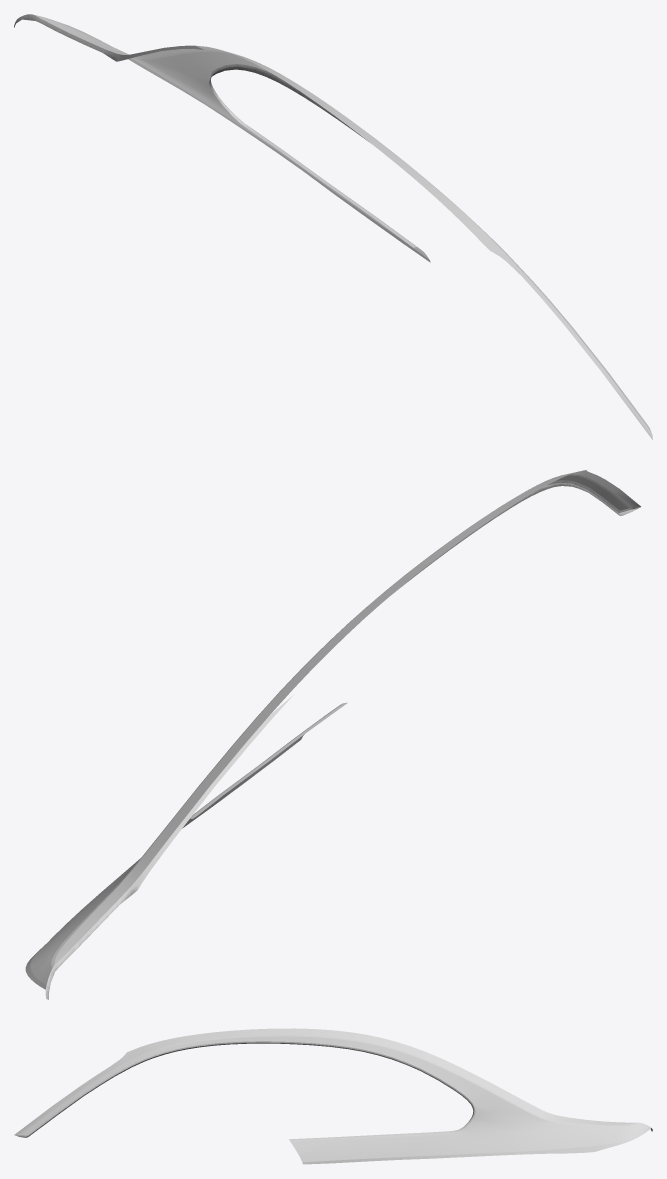
Rendered from M2driverbackfenderoutline.glb.
3 views of the same model, one above another, from view 1: azimuth 30°, elevation 25°; view 2: azimuth 150°, elevation 25°; view 3: azimuth 270°, elevation 25° (orthographic). The views are drawn at different scales.
Parts seen in each view (by area): view 1: Object_23.116, Object_23.120, Object_23.113, Object_23.070, Object_23.009, Object_23.117; view 2: Object_23.116, Object_23.120, Object_23.070, Object_23.113, Object_23.117; view 3: Object_23.120, Object_23.116, Object_23.009, Object_23.114, Object_23.117, Object_23.113.
Boxes of the visible parts, left/top/right/bottom form: Object_23.116: left=35, top=15, right=652, bottom=439; Object_23.120: left=60, top=22, right=651, bottom=431; Object_23.113: left=209, top=66, right=415, bottom=247; Object_23.070: left=14, top=14, right=203, bottom=61; Object_23.009: left=23, top=18, right=430, bottom=262; Object_23.117: left=36, top=15, right=651, bottom=432; Object_23.116: left=54, top=470, right=640, bottom=964; Object_23.120: left=30, top=475, right=628, bottom=984; Object_23.070: left=45, top=694, right=294, bottom=999; Object_23.113: left=190, top=482, right=640, bottom=818; Object_23.117: left=51, top=474, right=630, bottom=967; Object_23.120: left=21, top=1036, right=649, bottom=1162; Object_23.116: left=14, top=1028, right=636, bottom=1135; Object_23.009: left=302, top=1126, right=651, bottom=1164; Object_23.114: left=14, top=1041, right=475, bottom=1141; Object_23.117: left=20, top=1035, right=639, bottom=1135; Object_23.113: left=16, top=1042, right=473, bottom=1140.
Bounding box in the file's own units: 0.3212 × 0.493 × 2.74.
Materials: 1 (1 with a texture image).
